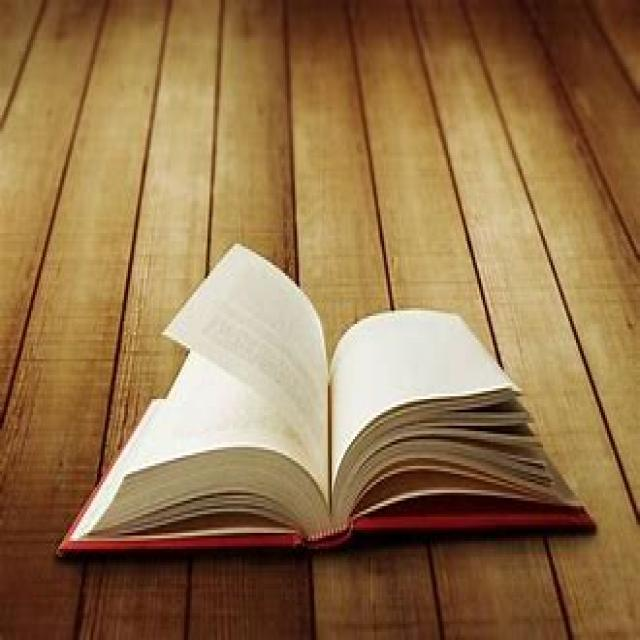pen: (51, 219, 609, 610)
